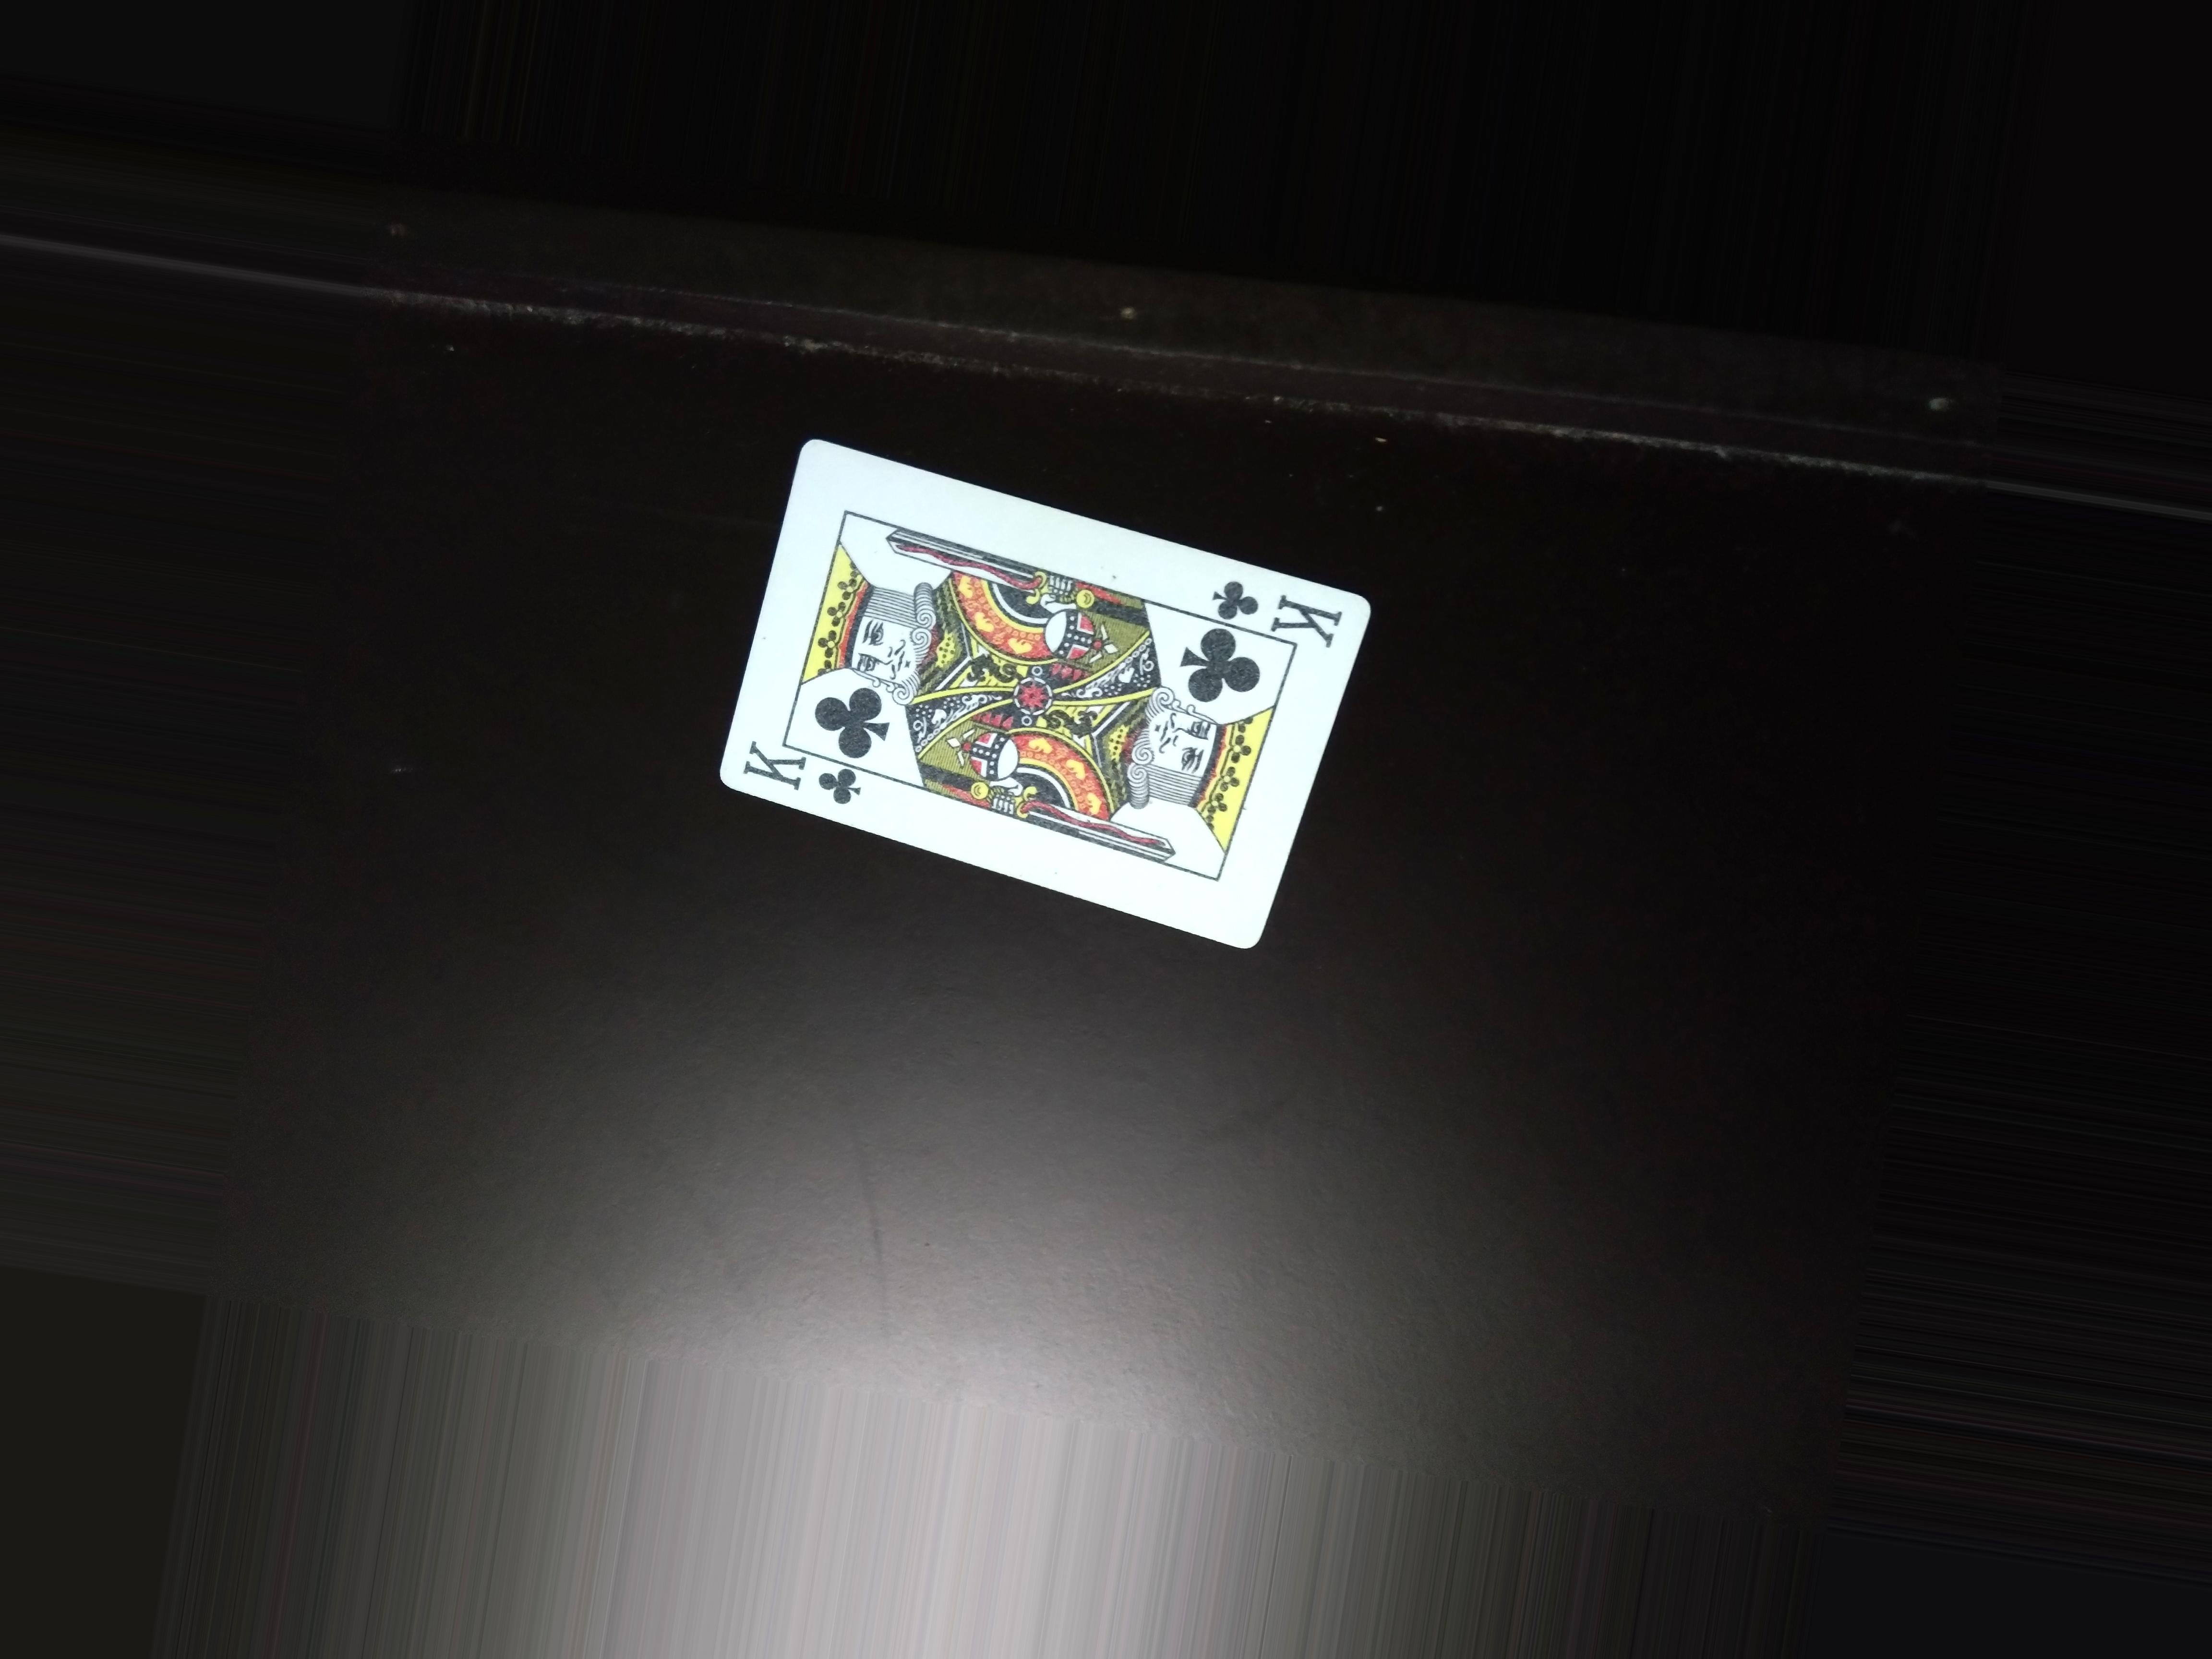KC: (1197, 573, 1353, 643)
